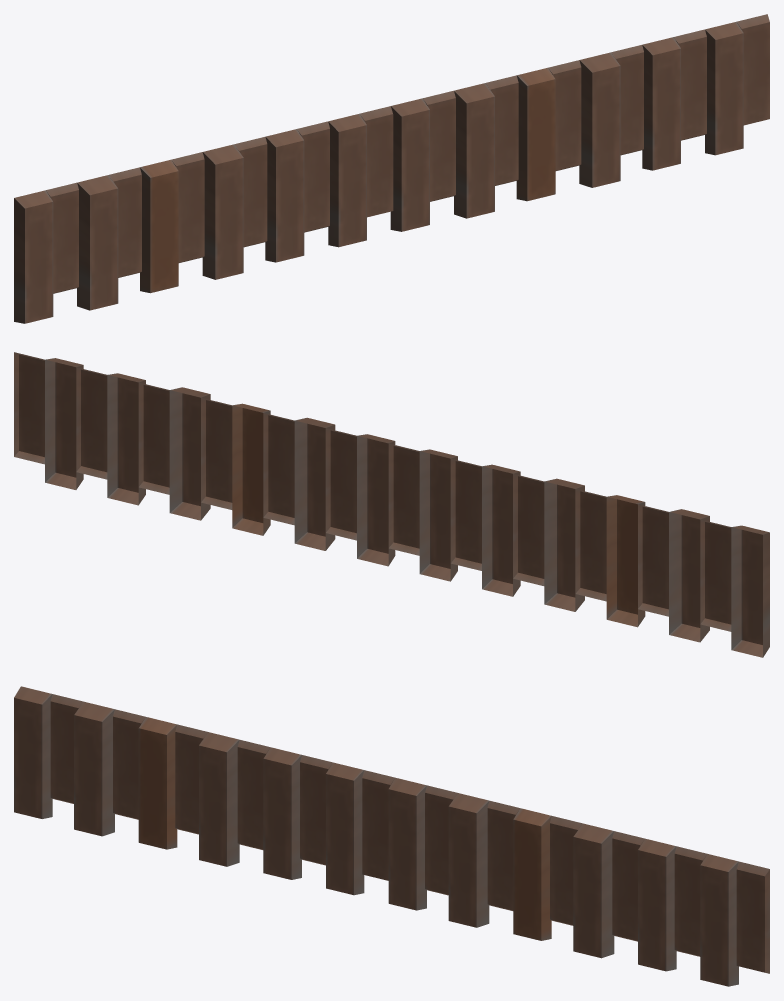
File: brick_ornament_horizontal.glb
The picture shows the model from 3 angles, top to bottom: view 1: azimuth 30°, elevation 25°; view 2: azimuth 150°, elevation 25°; view 3: azimuth 330°, elevation 25°; orthographic projection.
Visible parts, largest first — view 1: Brick_Ornament_Horizontal; view 2: Brick_Ornament_Horizontal; view 3: Brick_Ornament_Horizontal.
Boxes of the visible parts, bbox=[...] form: Brick_Ornament_Horizontal: bbox=[14, 14, 769, 323]; Brick_Ornament_Horizontal: bbox=[14, 352, 769, 657]; Brick_Ornament_Horizontal: bbox=[14, 686, 769, 986].
Bounding box in the file's own units: 2 × 0.314 × 0.0514.
Materials: 1 (1 with a texture image).
